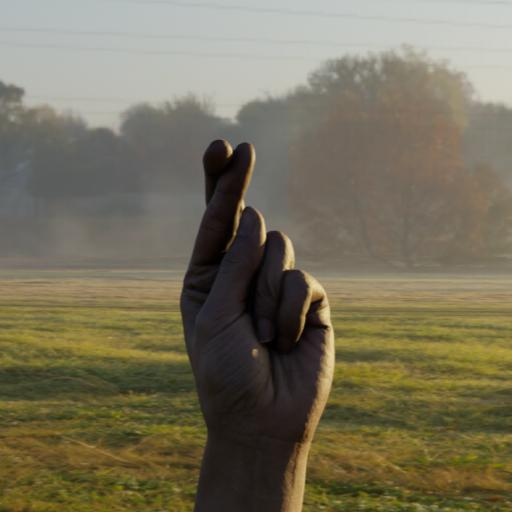R: (136, 99, 366, 512)
